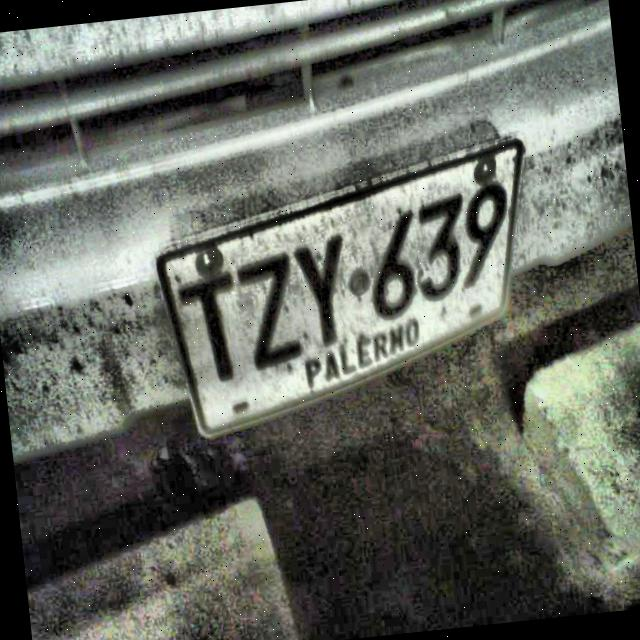3: (418, 190, 467, 309)
6: (364, 207, 420, 323)
9: (458, 177, 512, 294)
T: (171, 268, 248, 392)
Y: (290, 230, 348, 352)
Z: (236, 247, 310, 376)
